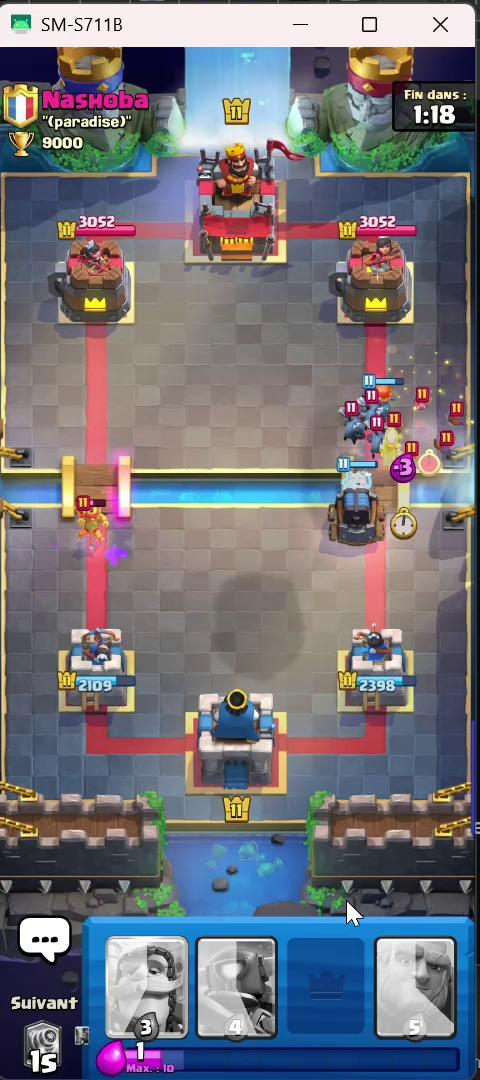archere: (381, 421, 401, 467), (403, 440, 421, 476)
bat: (430, 433, 466, 467), (441, 396, 474, 432), (400, 383, 432, 420)
gargouille: (356, 397, 383, 427), (343, 409, 365, 445), (367, 430, 390, 455)
gobelin_lances: (59, 492, 117, 552)
valkyrie: (359, 372, 397, 421)
zappy: (325, 457, 386, 549)
